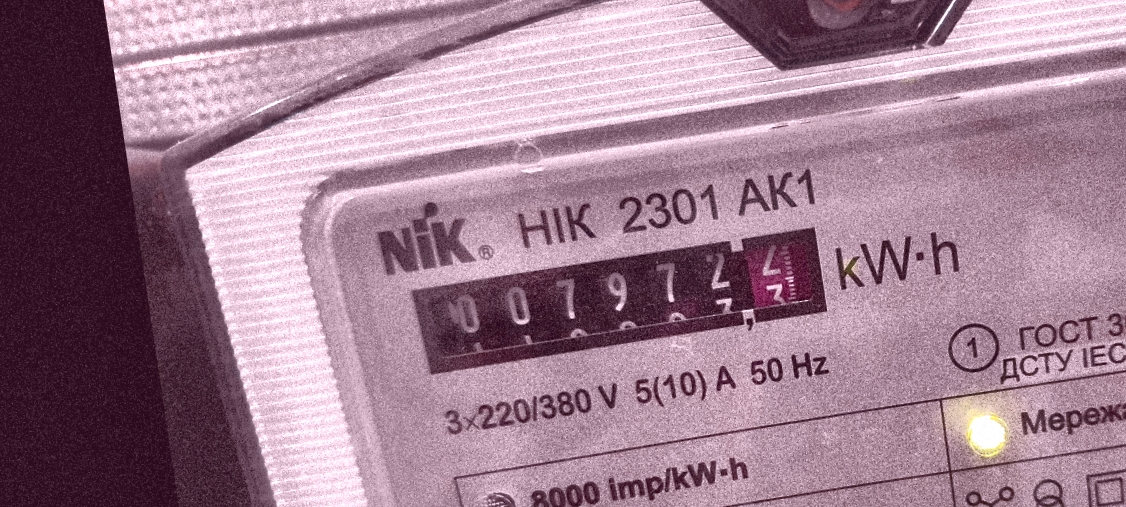0: (452, 290, 484, 334), (503, 281, 533, 326)
2: (704, 249, 732, 291), (755, 242, 783, 278)
3: (762, 279, 788, 307)
7: (652, 257, 684, 306), (552, 274, 583, 322)
9: (603, 267, 631, 313)
screen: (393, 211, 847, 390)
